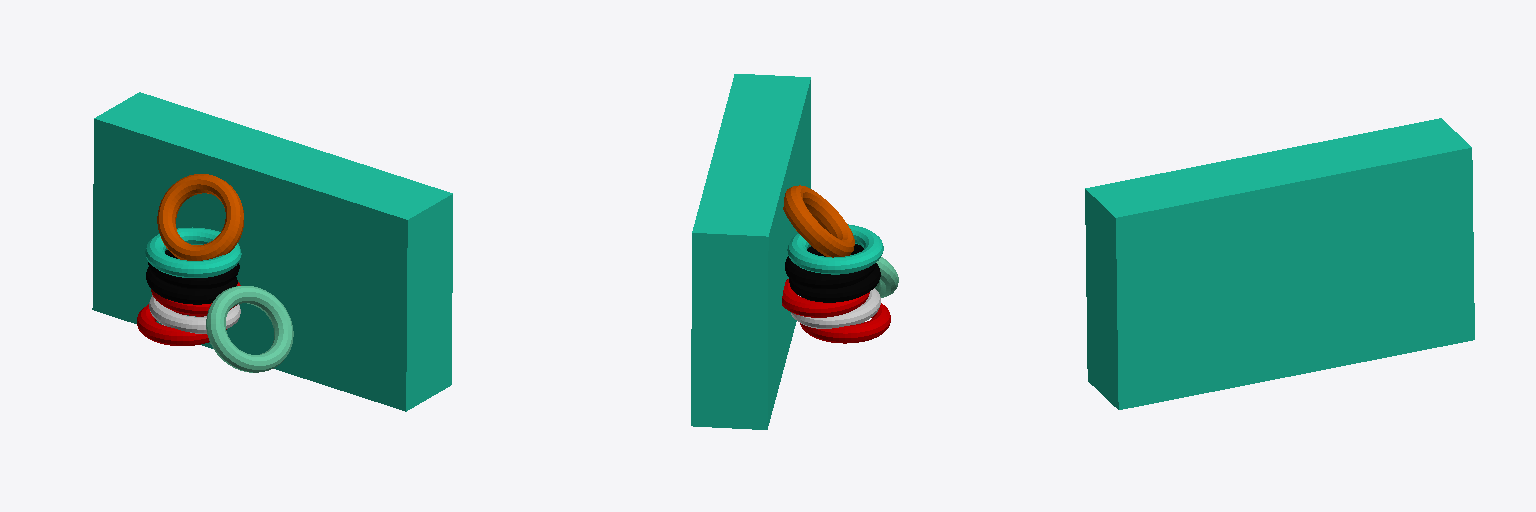
Rendered from wall_car.obj.
3 renders of one model, left to right at view 1: azimuth 30°, elevation 25°; view 2: azimuth 150°, elevation 25°; view 3: azimuth 270°, elevation 25°, orthographic.
Parts seen in each view (by area): view 1: Cube.001, Torus, Torus.006, Torus.012, Torus.015, Torus.007, Torus.002_Torus.009, Torus.005, Torus.003_Torus.010; view 2: Cube.001, Torus, Torus.012, Torus.015, Torus.005, Torus.003_Torus.010, Torus.007, Torus.002_Torus.009, Torus.006; view 3: Cube.001.
Boxes of the visible parts, <box> form: Cube.001: <box>92,92,452,411</box>; Torus: <box>157,174,243,260</box>; Torus.006: <box>206,286,293,372</box>; Torus.012: <box>145,227,241,277</box>; Torus.015: <box>137,304,226,345</box>; Torus.007: <box>146,257,237,304</box>; Torus.002_Torus.009: <box>149,295,240,333</box>; Torus.005: <box>148,250,239,288</box>; Torus.003_Torus.010: <box>151,282,240,315</box>; Cube.001: <box>691,74,810,429</box>; Torus: <box>783,185,854,257</box>; Torus.012: <box>787,224,883,274</box>; Torus.015: <box>800,303,890,343</box>; Torus.005: <box>785,244,875,288</box>; Torus.003_Torus.010: <box>782,279,869,317</box>; Torus.007: <box>789,256,880,302</box>; Torus.002_Torus.009: <box>791,288,880,328</box>; Torus.006: <box>875,257,898,297</box>; Cube.001: <box>1085,118,1474,409</box>.
Size of the model in its own units: 7.88 by 6.44 by 11.55.